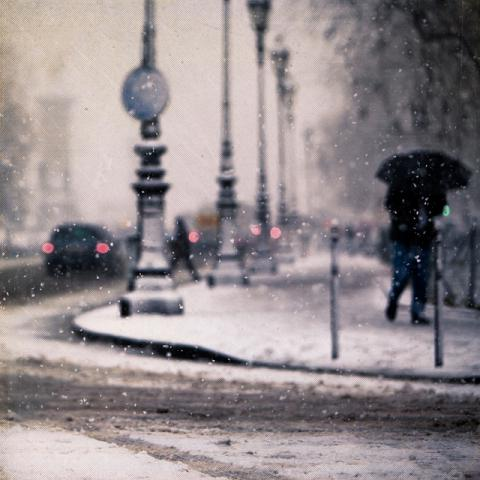car: (188, 196, 263, 267), (42, 222, 127, 279), (189, 222, 218, 258)
